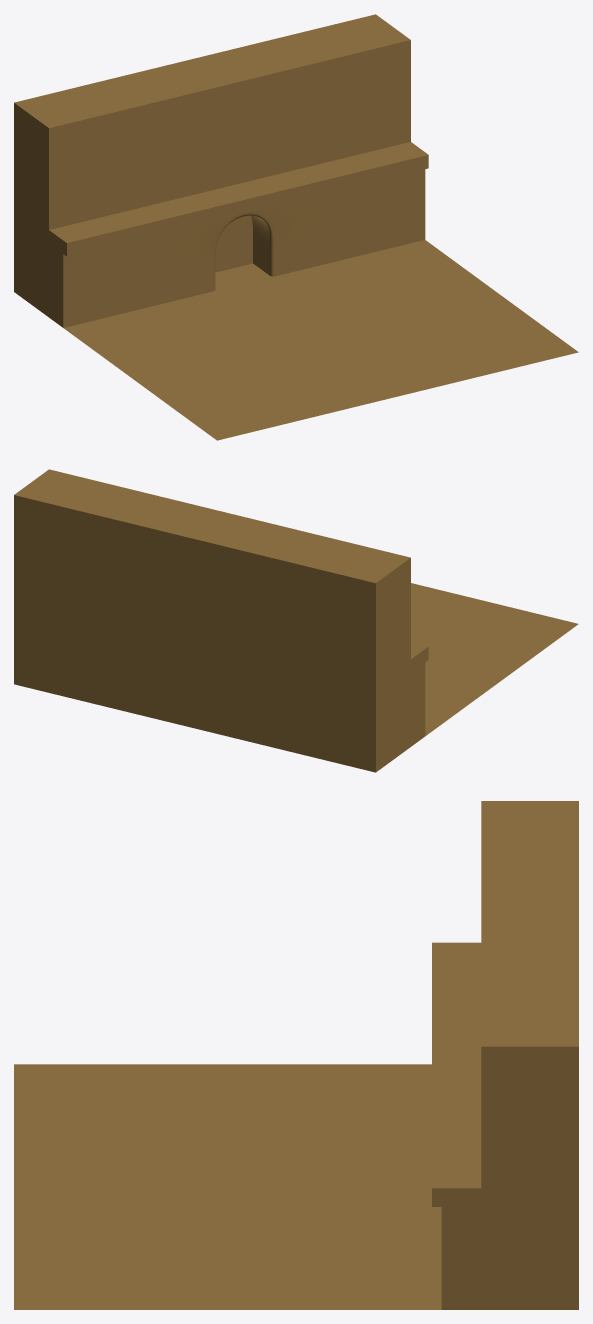
The model's file is Chimenea.obj.
The picture shows the model from 3 angles, top to bottom: view 1: azimuth 30°, elevation 25°; view 2: azimuth 150°, elevation 25°; view 3: azimuth 270°, elevation 25°; orthographic projection. The views are drawn at different scales.
Parts seen in each view (by area): view 1: Cube.001_Cube.002; view 2: Cube.001_Cube.002; view 3: Cube.001_Cube.002.
Part boxes in pixels (box(x1,y1,x2,y2)): Cube.001_Cube.002: box(14, 14, 578, 440); Cube.001_Cube.002: box(14, 469, 578, 772); Cube.001_Cube.002: box(14, 801, 578, 1309).
Bounding box in the file's own units: 11.91 × 5.96 × 11.58.
